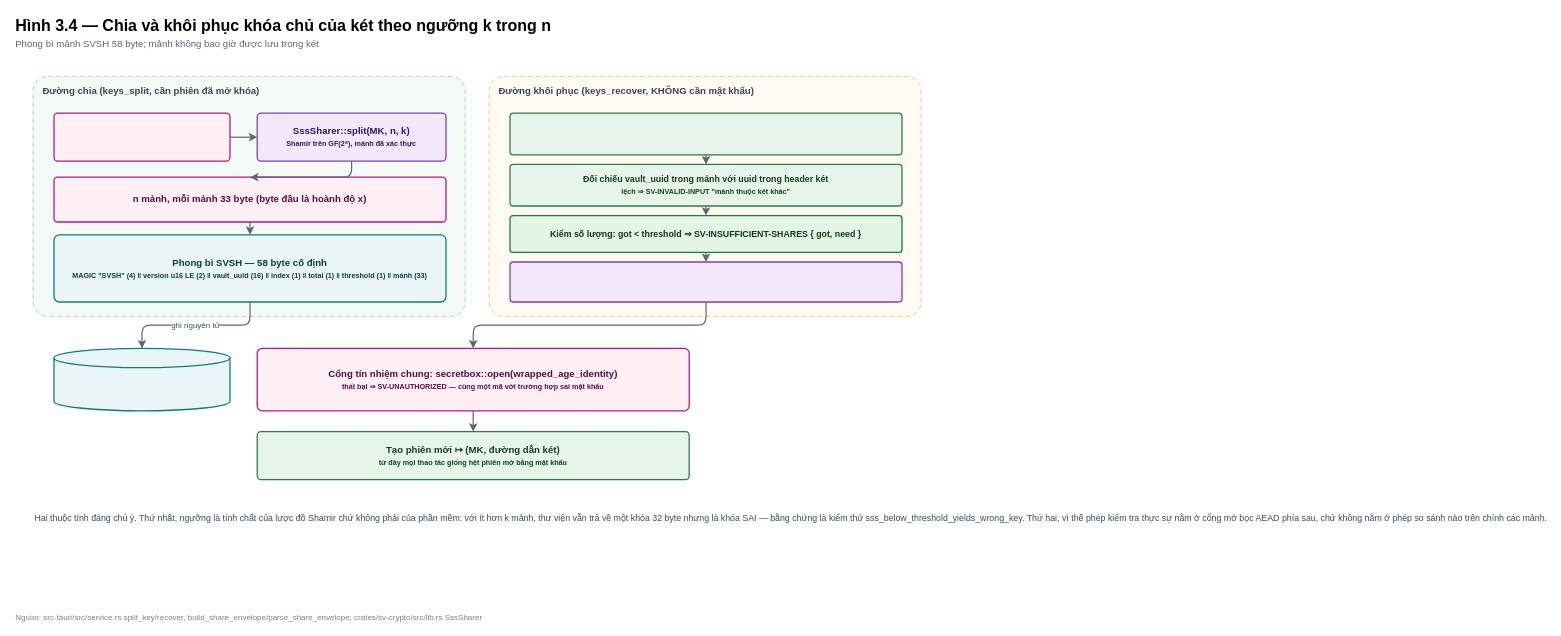
Image size: 1561x636. Some labels were removed from this diagram. The centre of each missing label's shape, as x and y in pixels:
"Khóa chủ MK (32 byte) lấy từ bảng phiên" belongs at pixel 141 136.
"SssSharer::combine → MK ứng viên" belongs at pixel 705 281.
"Thư mục xuất mảnh <uuid>.share1.svshare …" belongs at pixel 141 379.
"Đọc k phong bì; kiểm MAGIC, phiên bản, độ dài" belongs at pixel 705 133.
